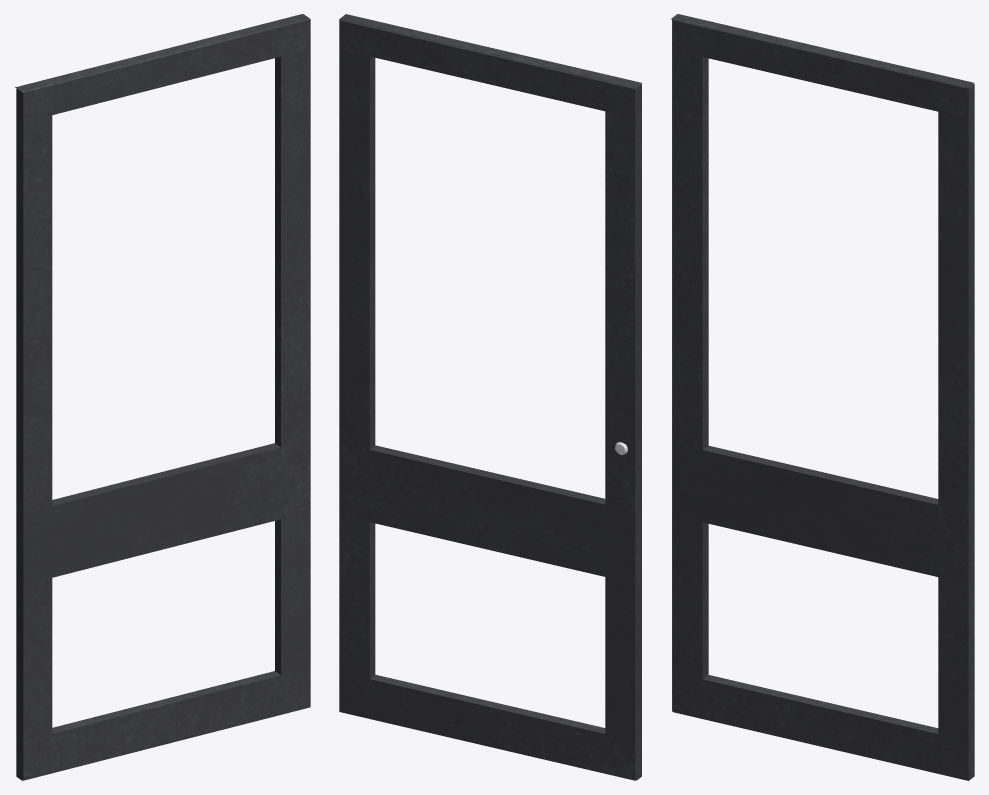
The model's file is Puerta.obj.
3 views of the same model, side by side, from view 1: azimuth 30°, elevation 25°; view 2: azimuth 150°, elevation 25°; view 3: azimuth 330°, elevation 25° (orthographic).
Visible parts, largest first — view 1: polySurface80 Puerta2:_gradient_16__gradient_30_16__gradient1; view 2: polySurface80 Puerta2:_gradient_16__gradient_30_16__gradient1; view 3: polySurface80 Puerta2:_gradient_16__gradient_30_16__gradient1.
Boxes of the visible parts, bbox=[...] form: polySurface80 Puerta2:_gradient_16__gradient_30_16__gradient1: bbox=[15, 14, 310, 780]; polySurface80 Puerta2:_gradient_16__gradient_30_16__gradient1: bbox=[339, 14, 642, 780]; polySurface80 Puerta2:_gradient_16__gradient_30_16__gradient1: bbox=[671, 14, 974, 780].
Bounding box in the file's own units: 1.71 × 3.85 × 0.1124.
Materials: 2 (2 with a texture image).
